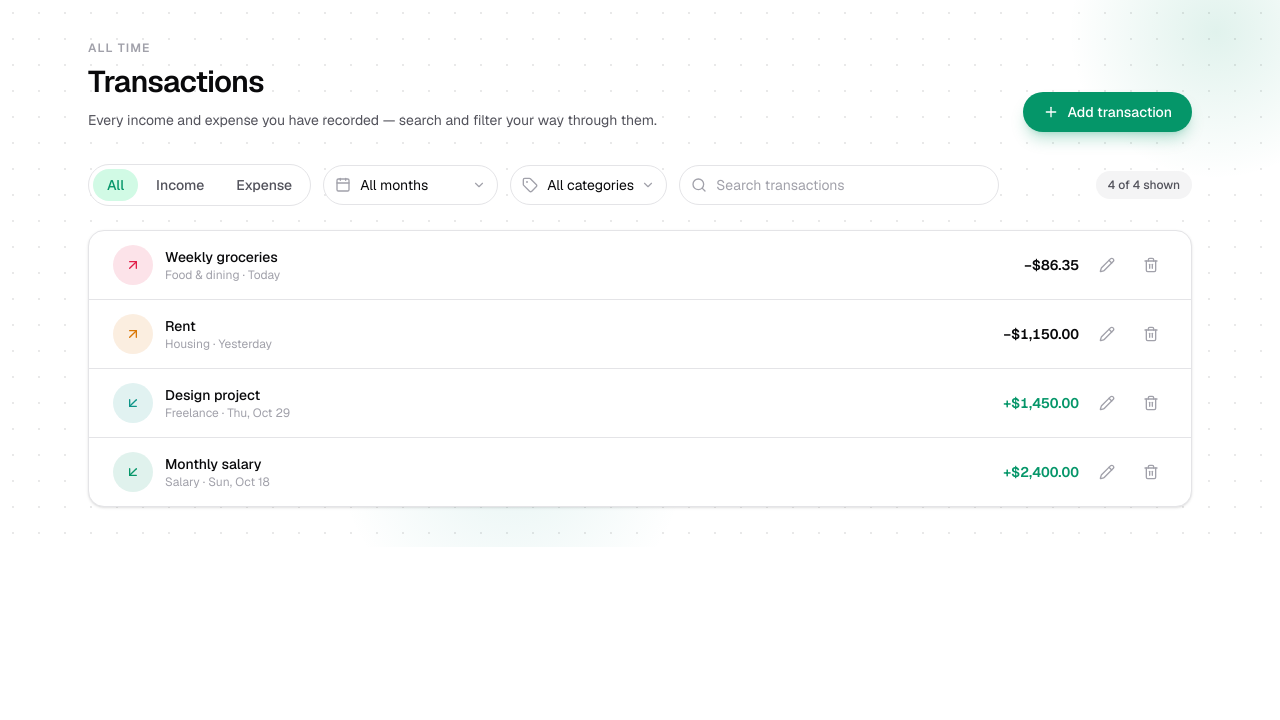
Test: TransactionsView › opens an edit form prefilled from the row that was clicked
The width and height of the screenshot is (1280, 720).
Click the button named "Edit Rent" at (1107, 334), box left=1091, top=318, right=1123, bottom=350
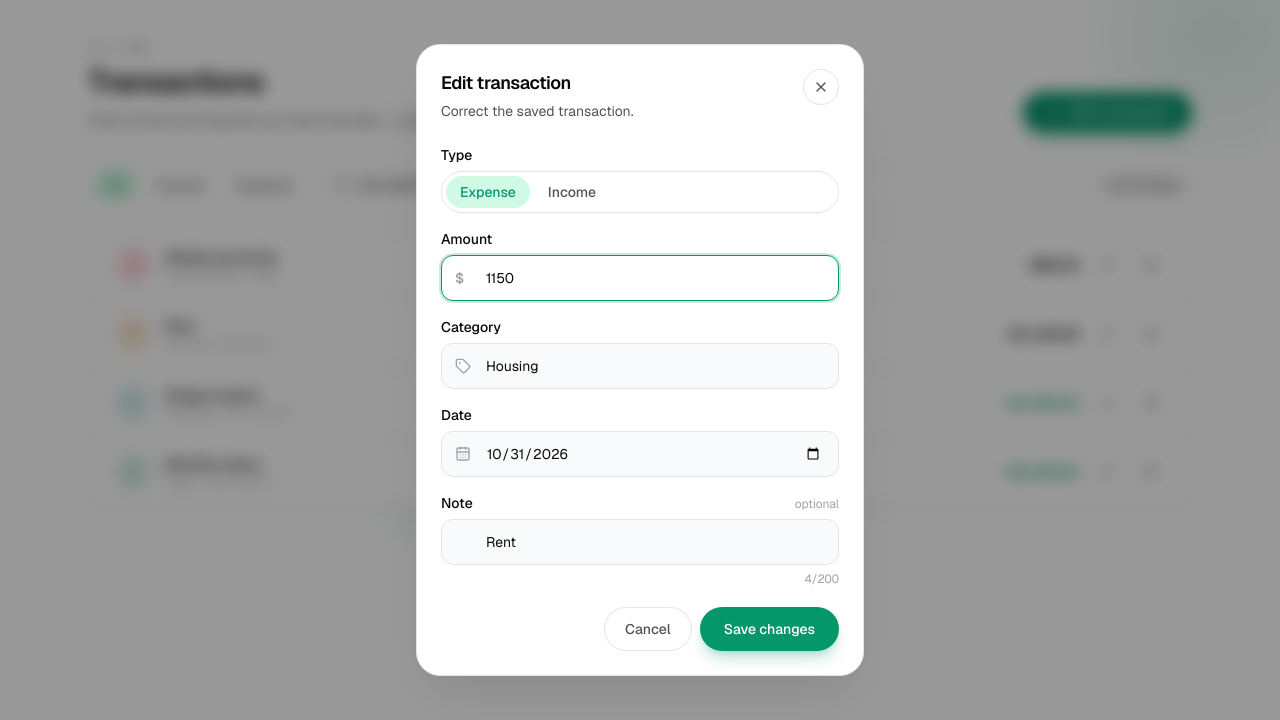
expect the dialog "Edit transaction" is shown: met, box left=416, top=44, right=864, bottom=676
expect the field labelled "Amount" holds "1150": met, box left=441, top=255, right=839, bottom=301
expect the dropdown labelled "Category" shows "Housing": met, box left=441, top=343, right=839, bottom=389
